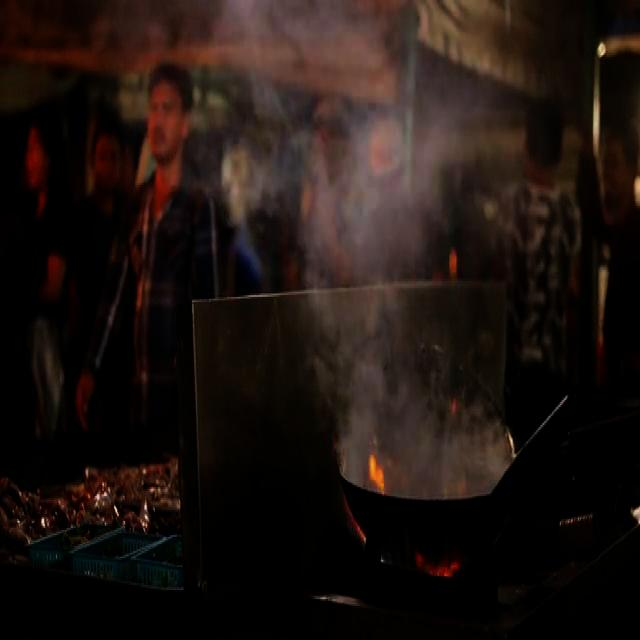smoke: (294, 69, 476, 299), (342, 315, 498, 483)
